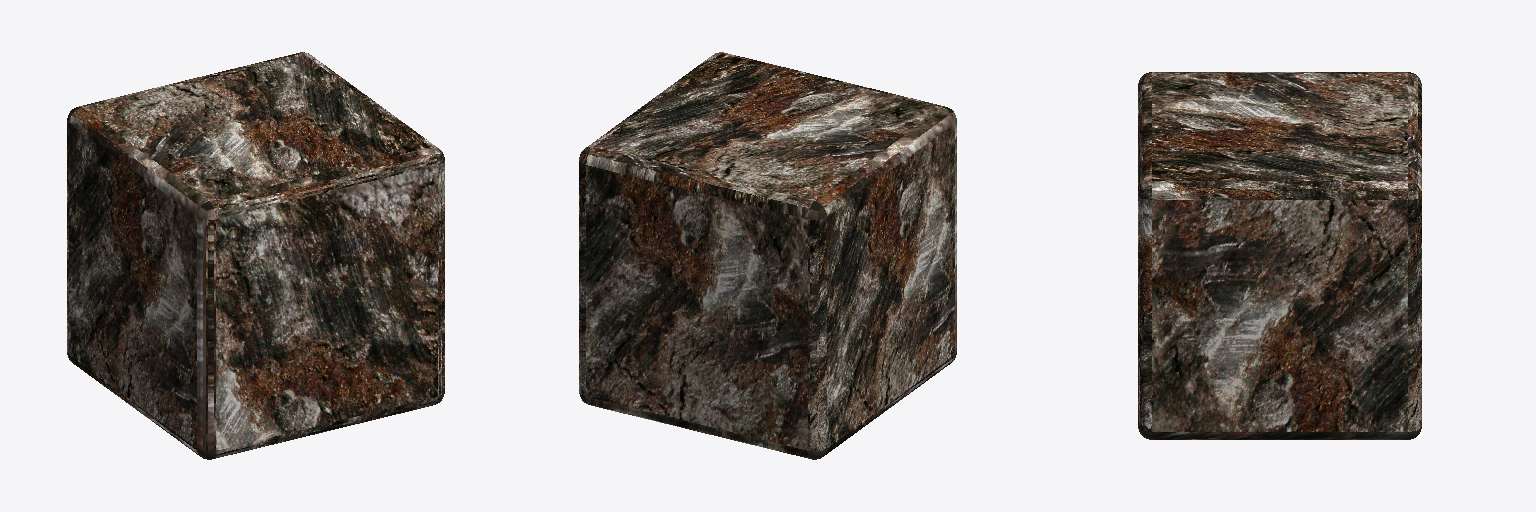
3 renders of one model, left to right at view 1: azimuth 30°, elevation 25°; view 2: azimuth 150°, elevation 25°; view 3: azimuth 270°, elevation 25°, orthographic.
Parts seen in each view (by area): view 1: Cube; view 2: Cube; view 3: Cube.
Boxes of the visible parts, box(x1,y1,x2,y2) form: Cube: box(67, 52, 444, 459); Cube: box(579, 52, 956, 459); Cube: box(1138, 72, 1421, 439).
Size of the model in its own units: 2 by 2 by 2.
1 materials, 1 textured.